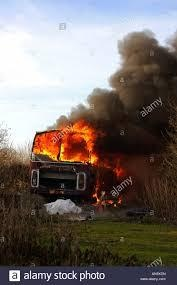fire: (32, 118, 126, 207), (34, 117, 102, 164)
